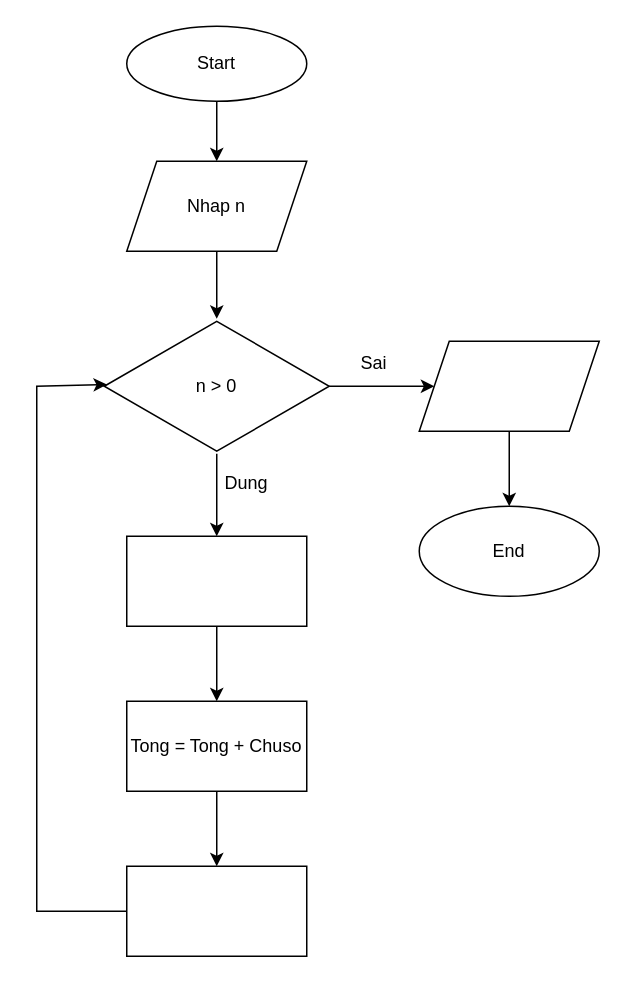
Some shapes in this 626 by 983 pixel diagram are drawn without their labels. The shapes that lost their labels are listed below. From the top down, each one's centre as x and y in pixels, then its label:
point (508, 385): In ra Tong
point (216, 580): Chuso = n/10
point (216, 910): n = n//10
